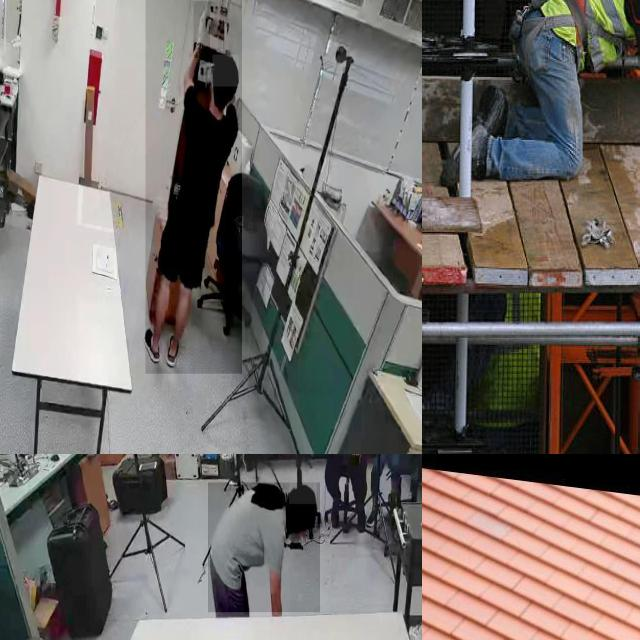Harness: (499, 0, 640, 83)
hand_glove: (193, 1, 210, 59)
head_nohelmet: (213, 54, 239, 88), (289, 482, 317, 504)
person: (145, 0, 242, 374), (208, 483, 320, 613), (325, 454, 382, 537)
shoes: (142, 324, 161, 366), (164, 331, 182, 374), (328, 493, 343, 531), (366, 495, 381, 529)
